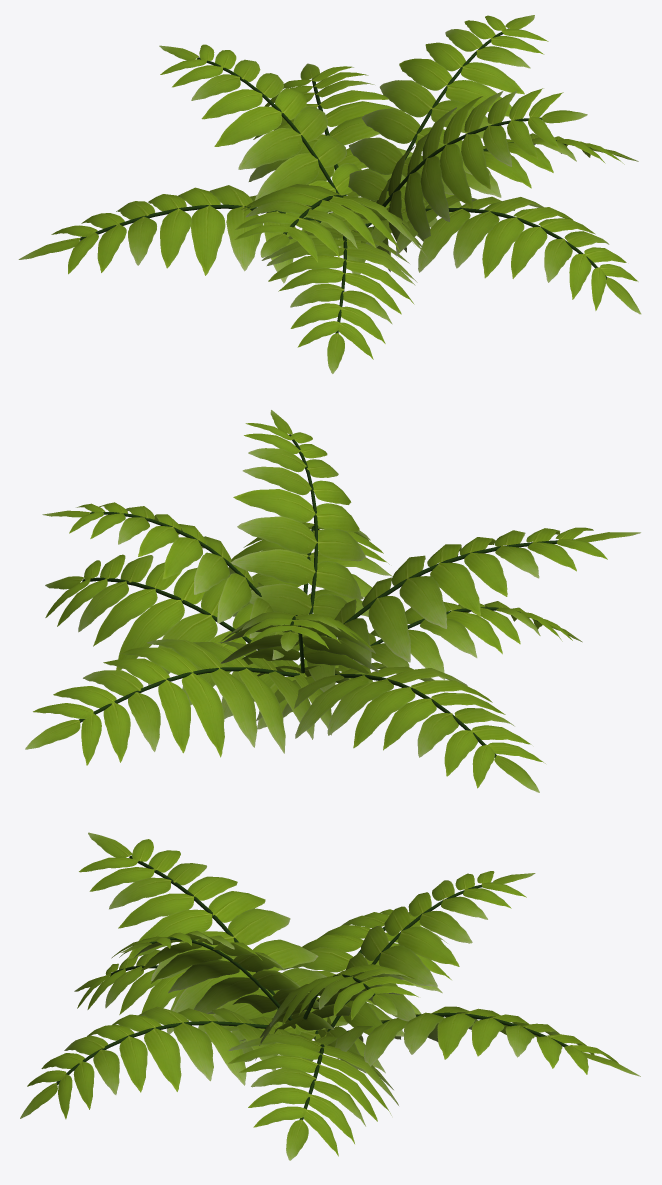
The model's file is carton_fern.obj.
3 renders of one model, top to bottom at view 1: azimuth 30°, elevation 25°; view 2: azimuth 150°, elevation 25°; view 3: azimuth 270°, elevation 25°, orthographic. The views are drawn at different scales.
Visible parts, largest first — view 1: cartoon_fern_Plane.114; view 2: cartoon_fern_Plane.114; view 3: cartoon_fern_Plane.114.
Part boxes in pixels (x1,y1,x2,y2): cartoon_fern_Plane.114: (18, 15, 641, 373); cartoon_fern_Plane.114: (25, 410, 640, 792); cartoon_fern_Plane.114: (20, 832, 640, 1160).
Bounding box in the file's own units: 5.06 × 1.78 × 4.97.
2 materials, 1 textured.
